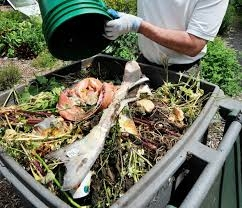kitchen_waste: (56, 73, 118, 123), (4, 128, 80, 158), (14, 78, 63, 110), (156, 84, 205, 110), (132, 96, 157, 118), (169, 104, 187, 129)
